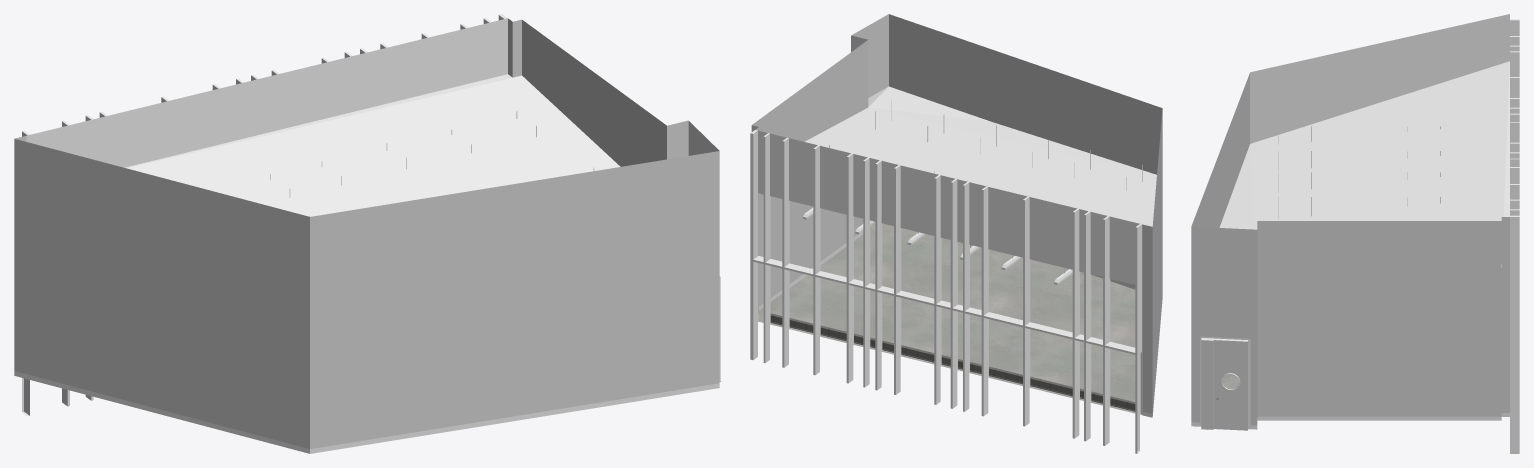
Rendered from room470.gltf.
The picture shows the model from 3 angles, left to right: view 1: azimuth 30°, elevation 25°; view 2: azimuth 150°, elevation 25°; view 3: azimuth 270°, elevation 25°; orthographic projection. The views are drawn at different scales.
Visible parts, largest first — view 1: group_7, group_8, group_0, group_7.001; view 2: group_0, group_7, group_2, group_8, group_1, group_0.001; view 3: group_7, group_8, group_0, group_11.001, group_7.002, group_11.004, group_10.
Part boxes in pixels (x1,y1,x2,y2): group_7: (14,18,719,448); group_8: (124,74,620,216); group_0: (22,14,507,416); group_7.001: (14,371,719,453); group_0: (750,130,1142,453); group_7: (751,14,1162,413); group_2: (758,223,1141,414); group_8: (805,86,1156,226); group_1: (770,313,1135,410); group_0.001: (770,321,1135,411); group_7: (1191,14,1509,425); group_8: (1219,61,1509,267); group_0: (1510,19,1519,453); group_11.001: (1214,340,1247,430); group_7.002: (1250,413,1509,429); group_11.004: (1201,340,1213,429); group_10: (1200,336,1250,429).
Size of the model in its own units: 17.54 by 8.93 by 11.21.
8 materials, 2 textured.
